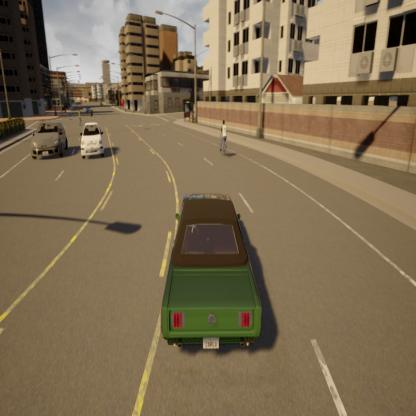Cars: (144, 178, 268, 363), (27, 114, 72, 161), (72, 116, 107, 160)
Pedestrian: (76, 105, 84, 128)
